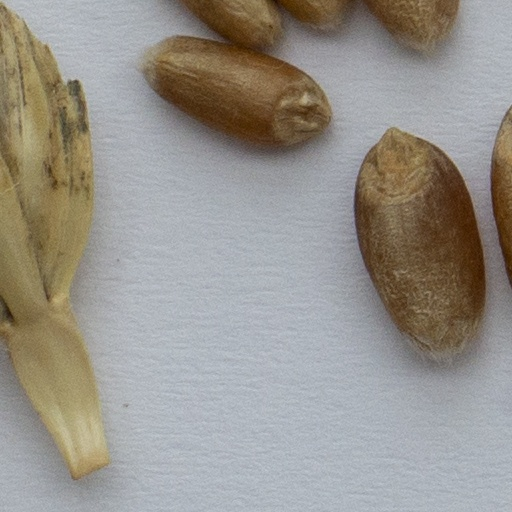Peel-poly: (0, 3, 103, 474)
